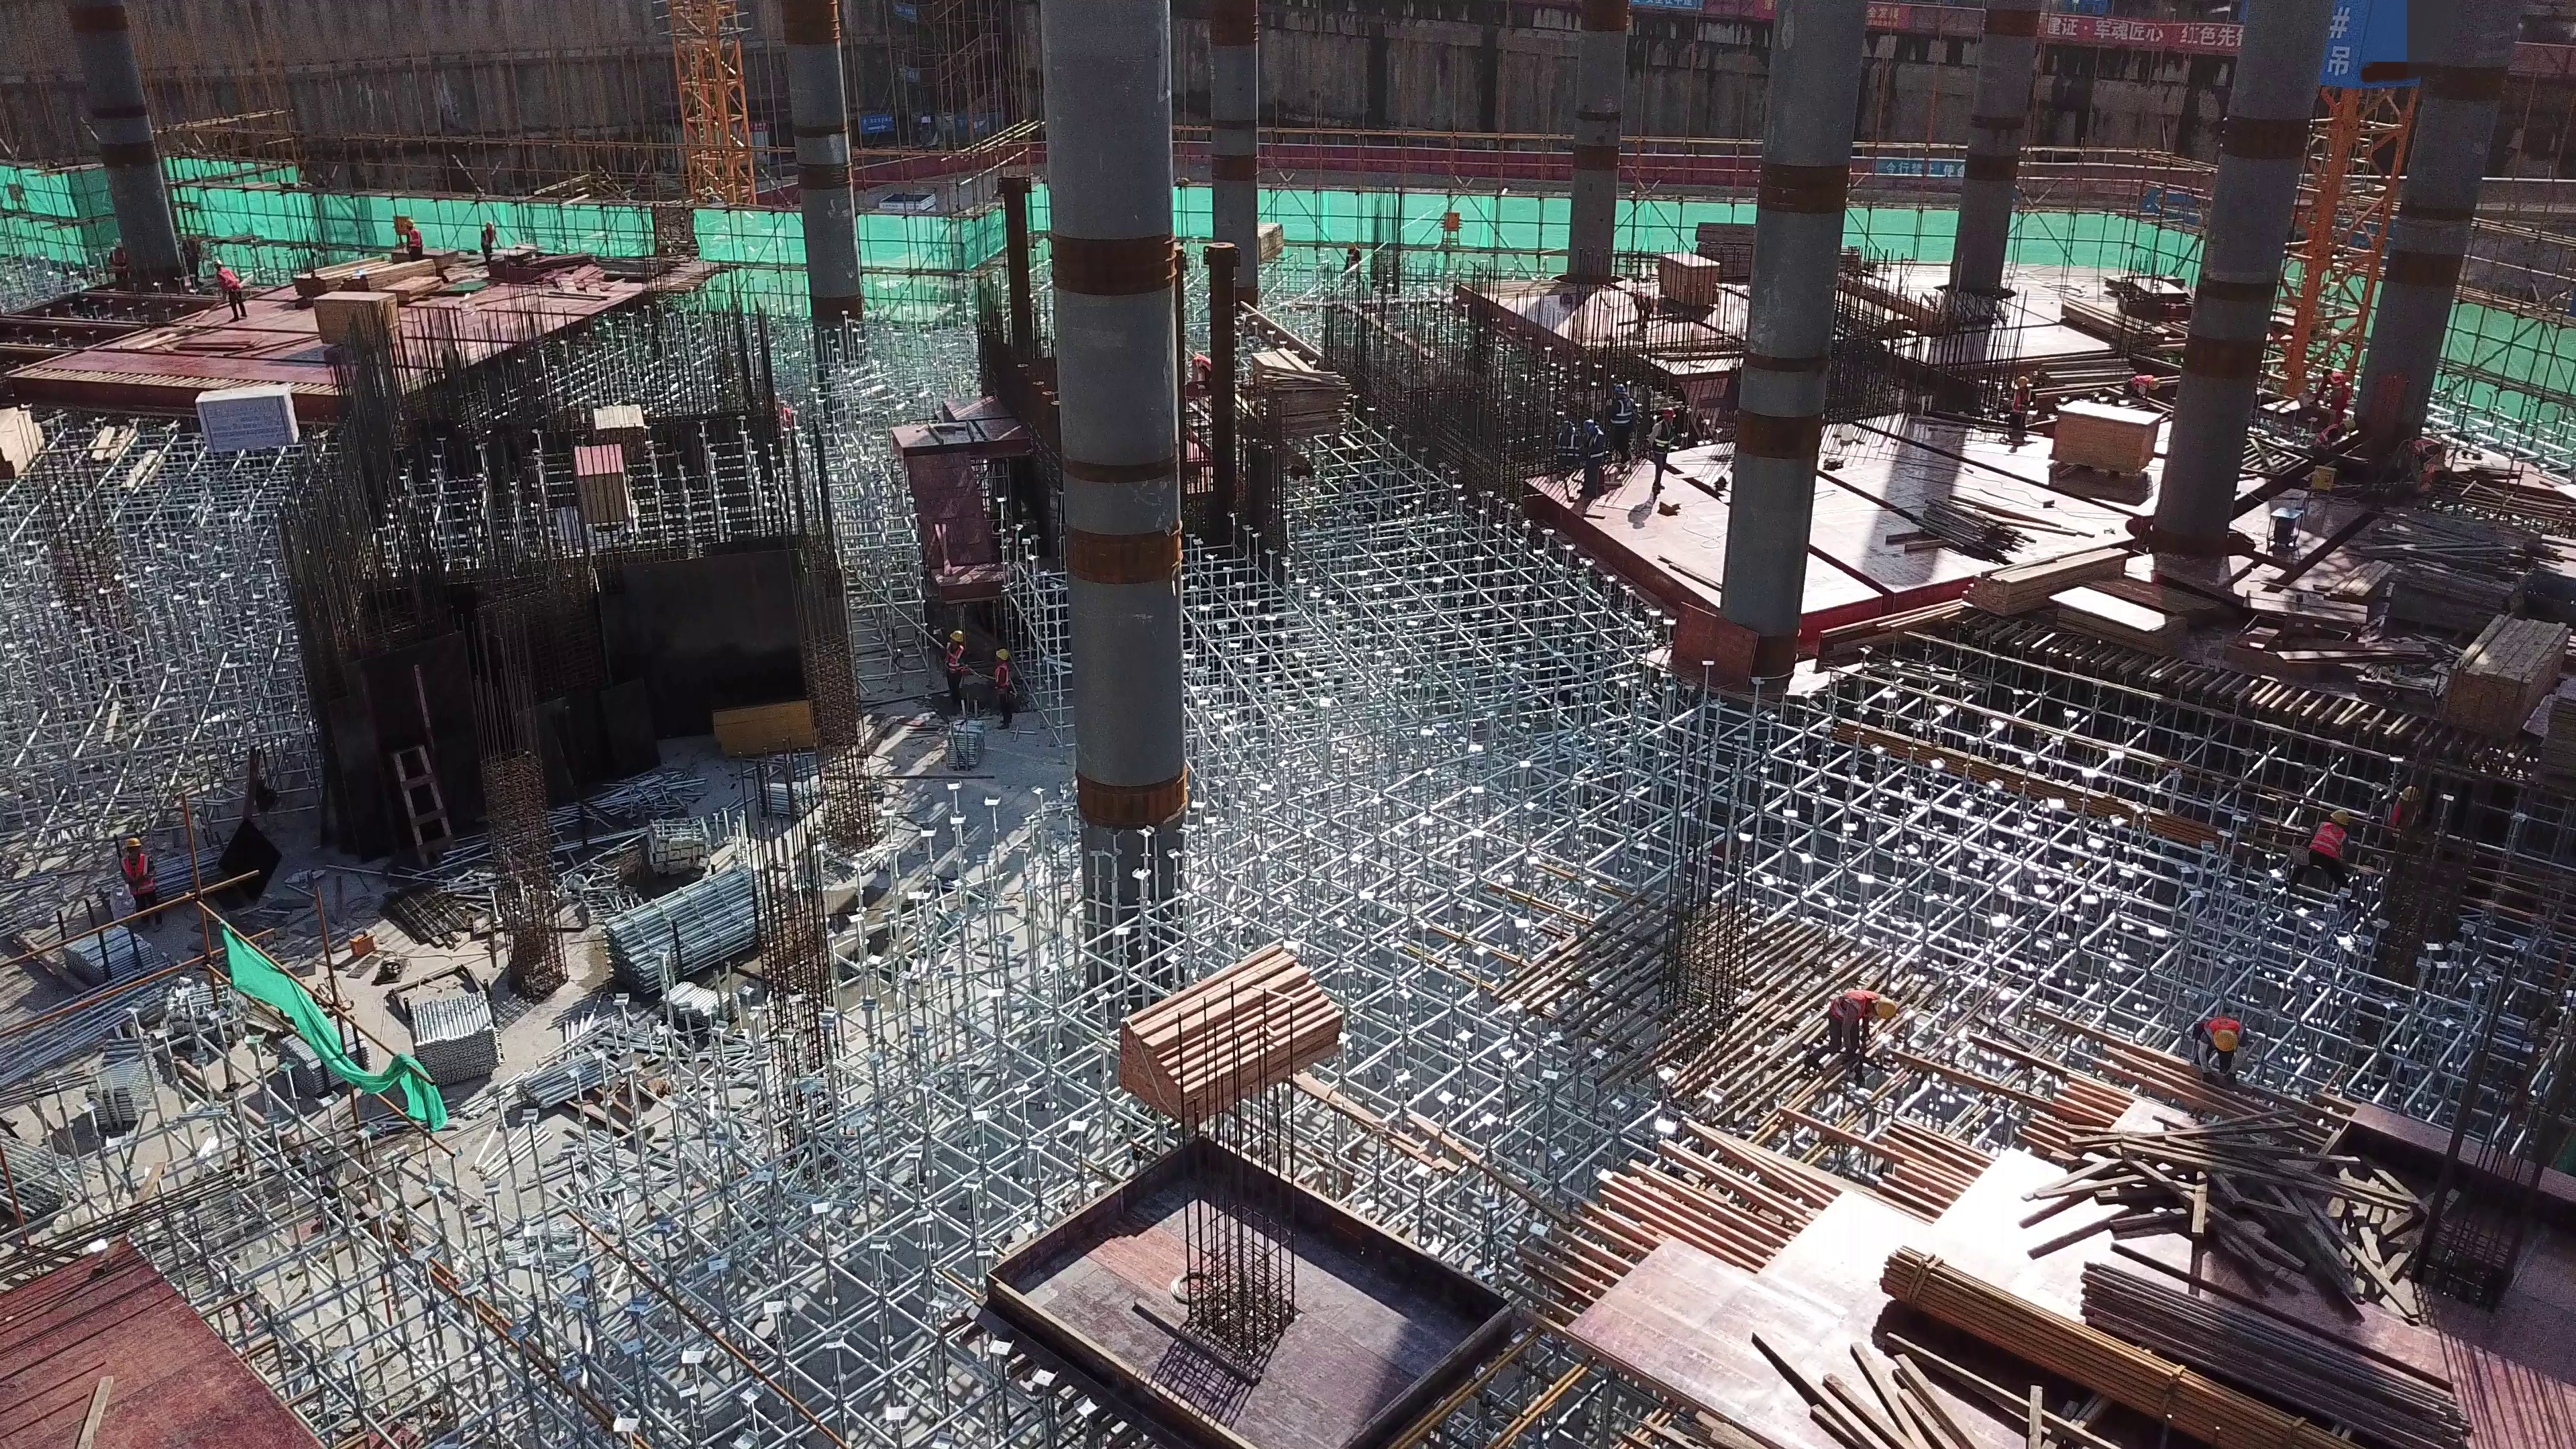board: (580, 447, 625, 525)
helmet: (2312, 824, 2350, 863), (1825, 993, 1874, 1022), (119, 854, 152, 896), (2204, 1032, 2237, 1057), (2204, 1019, 2236, 1039), (1876, 996, 1894, 1020), (945, 630, 967, 645), (2147, 376, 2163, 394), (2012, 374, 2029, 390), (1581, 419, 1602, 433), (123, 837, 142, 851), (2398, 786, 2415, 802), (2332, 810, 2350, 824), (995, 648, 1010, 662), (1612, 380, 1627, 394), (1660, 409, 1671, 419), (482, 221, 492, 230), (113, 240, 124, 248), (403, 219, 412, 227)
person: (1817, 994, 1919, 1073), (2290, 803, 2360, 910), (115, 838, 163, 921), (2190, 1017, 2246, 1082), (1604, 387, 1639, 470), (989, 647, 1017, 742), (938, 630, 972, 708), (211, 254, 246, 321), (2387, 783, 2424, 842), (1577, 419, 1605, 491), (1651, 409, 1672, 499), (2004, 374, 2035, 432), (2314, 420, 2355, 458), (2314, 369, 2347, 420), (1548, 421, 1574, 475), (2123, 371, 2161, 405), (478, 219, 495, 268), (404, 219, 423, 262)
scaffold: (611, 871, 768, 980), (407, 987, 492, 1084), (62, 922, 164, 1000), (76, 1039, 156, 1130), (519, 1047, 624, 1105), (653, 976, 739, 1032), (767, 756, 837, 816), (947, 715, 989, 781)
slogan: (2038, 19, 2238, 67)
vest: (942, 644, 965, 680), (1585, 436, 1609, 463), (1652, 420, 1671, 452), (990, 663, 1009, 693), (215, 268, 239, 292), (1612, 398, 1633, 423), (1556, 433, 1574, 460), (2012, 390, 2029, 413), (2129, 372, 2146, 388), (110, 249, 125, 269), (405, 231, 420, 250), (482, 231, 492, 253)
wood: (1863, 1238, 2384, 1449), (2112, 1144, 2386, 1302), (1100, 946, 1348, 1097), (2391, 524, 2518, 615), (2455, 618, 2557, 730), (1, 414, 58, 490)
